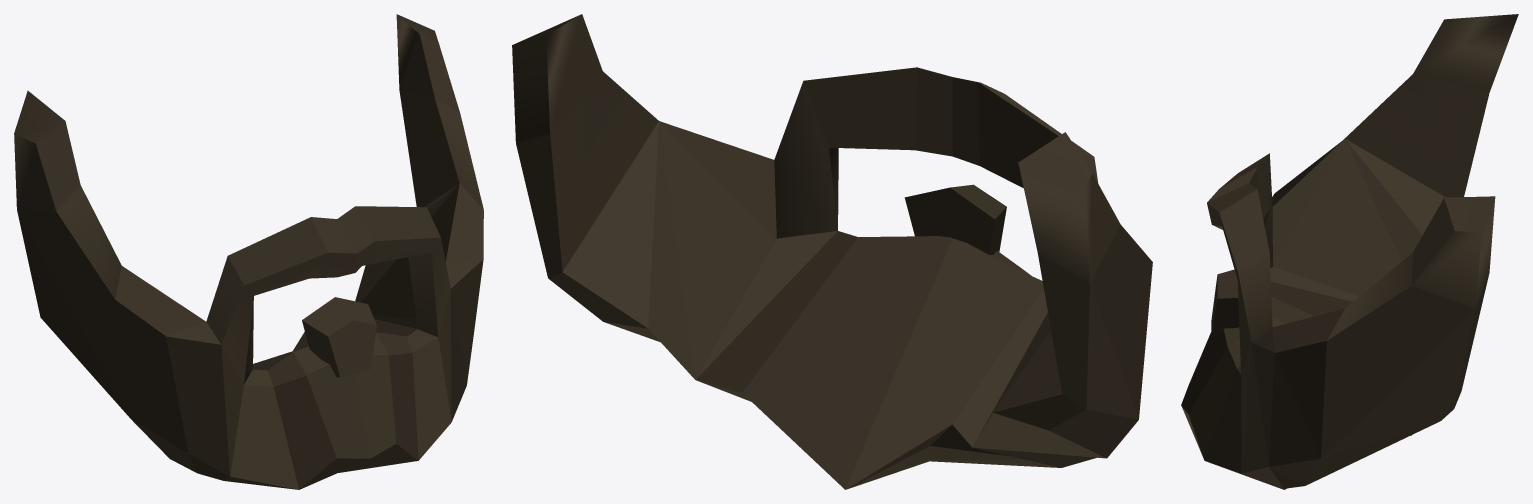
The model's file is SM_Chr_Attach_Beard_12.fbx.
3 renders of one model, left to right at view 1: azimuth 30°, elevation 25°; view 2: azimuth 150°, elevation 25°; view 3: azimuth 270°, elevation 25°, orthographic. The views are drawn at different scales.
Parts seen in each view (by area): view 1: SM_Chr_Attach_Beard_12; view 2: SM_Chr_Attach_Beard_12; view 3: SM_Chr_Attach_Beard_12.
Boxes of the visible parts, box(x1,y1,x2,y2) form: SM_Chr_Attach_Beard_12: box(14, 14, 483, 489); SM_Chr_Attach_Beard_12: box(512, 14, 1152, 489); SM_Chr_Attach_Beard_12: box(1181, 14, 1518, 489).
Bounding box in the file's own units: 22.41 × 17.6 × 15.11.
